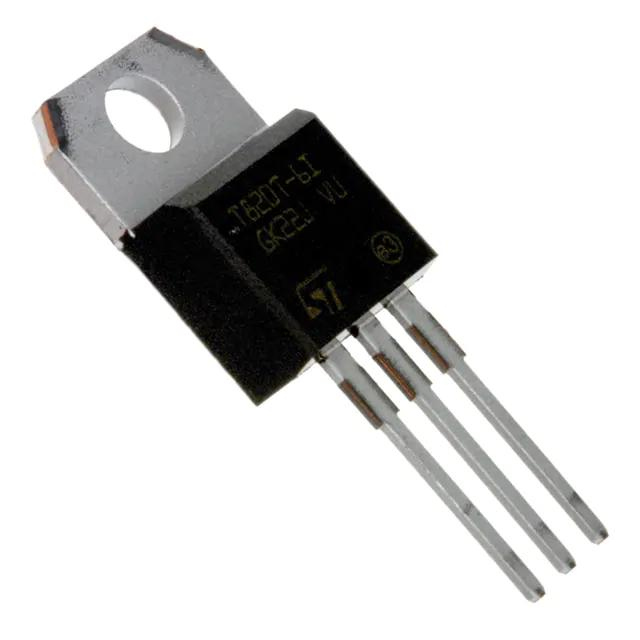Transistor: (51, 42, 576, 574)
